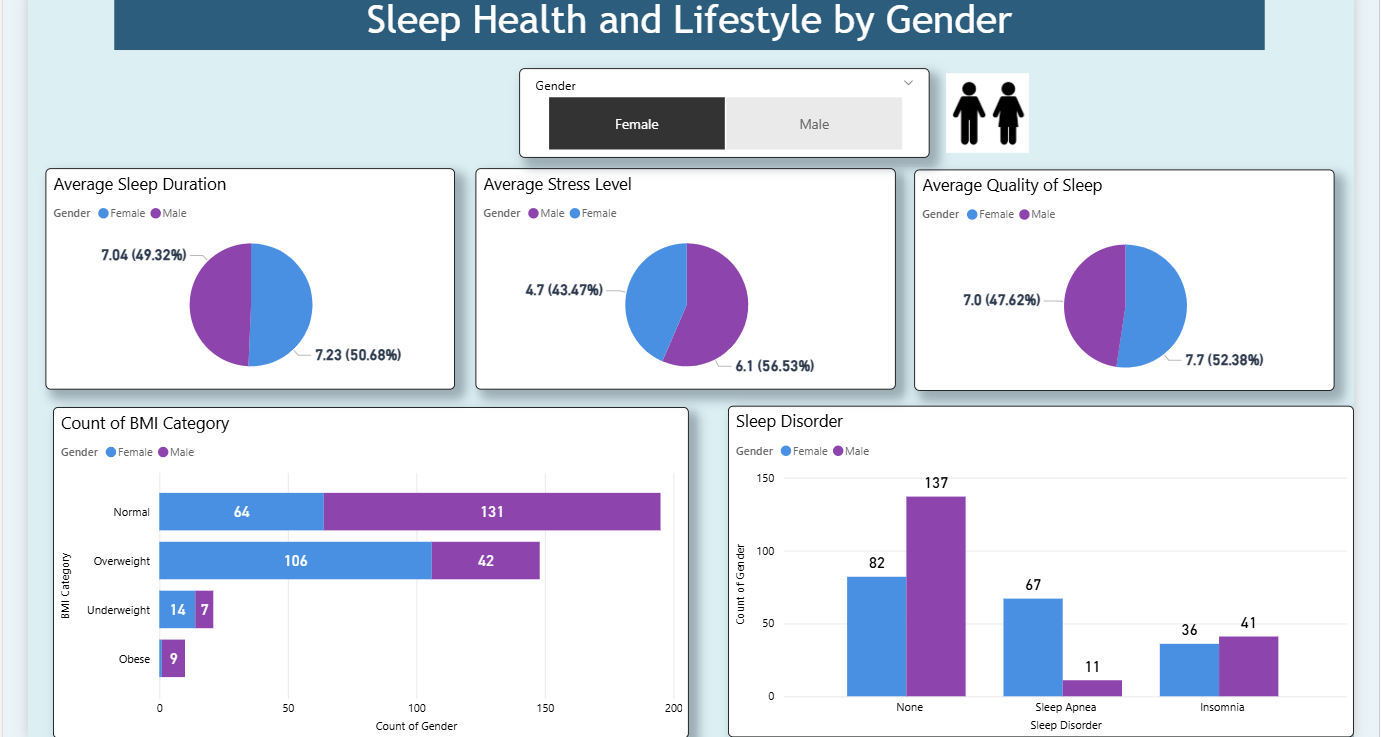

What the dashboard file says about the page in this screenshot:
{"tool":"powerbi","page":{"name":"Sleep Health Analysis by Gender","canvas":[1280,720],"ordinal":1},"visuals":[{"type":"barChart","title":"Count of BMI Category","fields":{"Category":["By Gender.BMI Category"],"Y":["CountNonNull(By Gender.Gender)"],"Series":["By Gender.Gender"]},"box":[23.8,400,613.8,320],"z":0},{"type":"pieChart","title":"Average Quality of Sleep","fields":{"Category":["By Gender.Gender"],"Y":["Avg(By Gender.Quality of Sleep)"]},"box":[855.7,171.1,405.8,213.9],"z":1000},{"type":"clusteredColumnChart","title":"Sleep Disorder ","fields":{"Category":["By Gender.Sleep Disorder"],"Y":["CountNonNull(By Gender.Gender)"],"Series":["By Gender.Gender"]},"box":[676,399.7,603.9,320.3],"z":2000},{"type":"pieChart","title":"Average Sleep Duration","fields":{"Y":["Avg(By Gender.Sleep Duration)"],"Category":["By Gender.Gender"]},"box":[17.1,169.9,394.8,213.9],"z":3000},{"type":"pieChart","title":"Average Stress Level","fields":{"Category":["By Gender.Gender"],"Y":["Avg(By Gender.Stress Level)"]},"box":[431.5,169.9,405.8,213.9],"z":4000},{"type":"slicer","fields":{"Values":["Overview.Gender"]},"box":[474.3,73.3,396.1,86.8],"z":5000},{"type":"textbox","box":[82.8,0,1110.4,56.2],"z":6000},{"type":"image","box":[859.4,73.3,134.5,86.8],"z":7000}]}

Visuals, with their boxes on the page's 1280x720 design canvas (x1, y1, x2, y2). These are canvas units, not pixel positions in the 1382x737 screenshot, which may show the page scaled, cropped or inside an application window:
"Count of BMI Category" barChart: 24:400:638:720
"Average Quality of Sleep" pieChart: 856:171:1262:385
"Sleep Disorder " clusteredColumnChart: 676:400:1280:720
"Average Sleep Duration" pieChart: 17:170:412:384
"Average Stress Level" pieChart: 432:170:837:384
slicer - Overview.Gender: 474:73:870:160
textbox: 83:0:1193:56
image: 859:73:994:160
